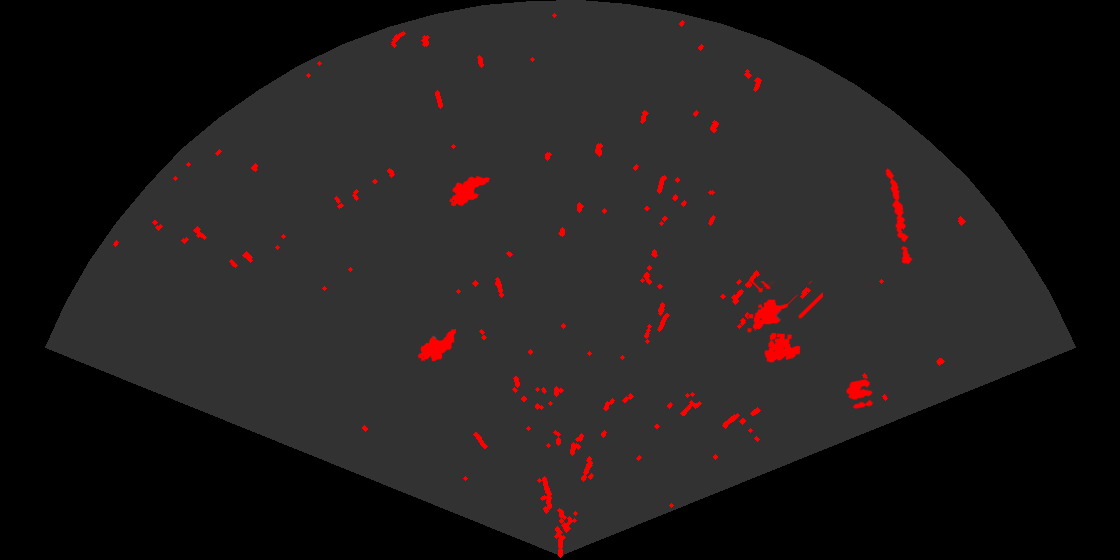AUV: (416, 327, 458, 363), (448, 174, 492, 208)
ball: (845, 377, 875, 410)
cage: (746, 281, 823, 364)
chain: (884, 167, 914, 266)
